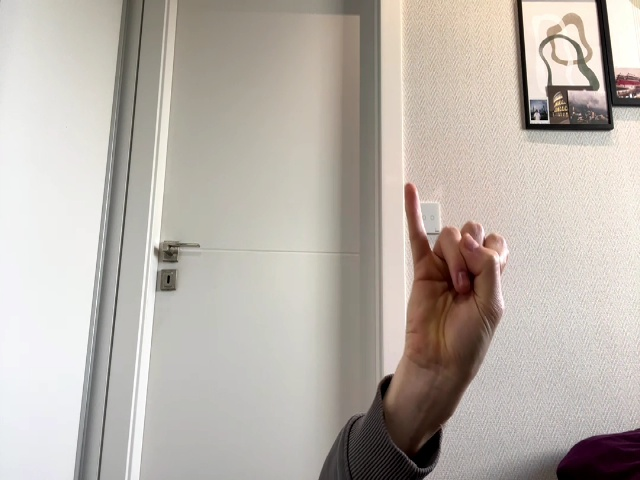I: (405, 183, 509, 379)
